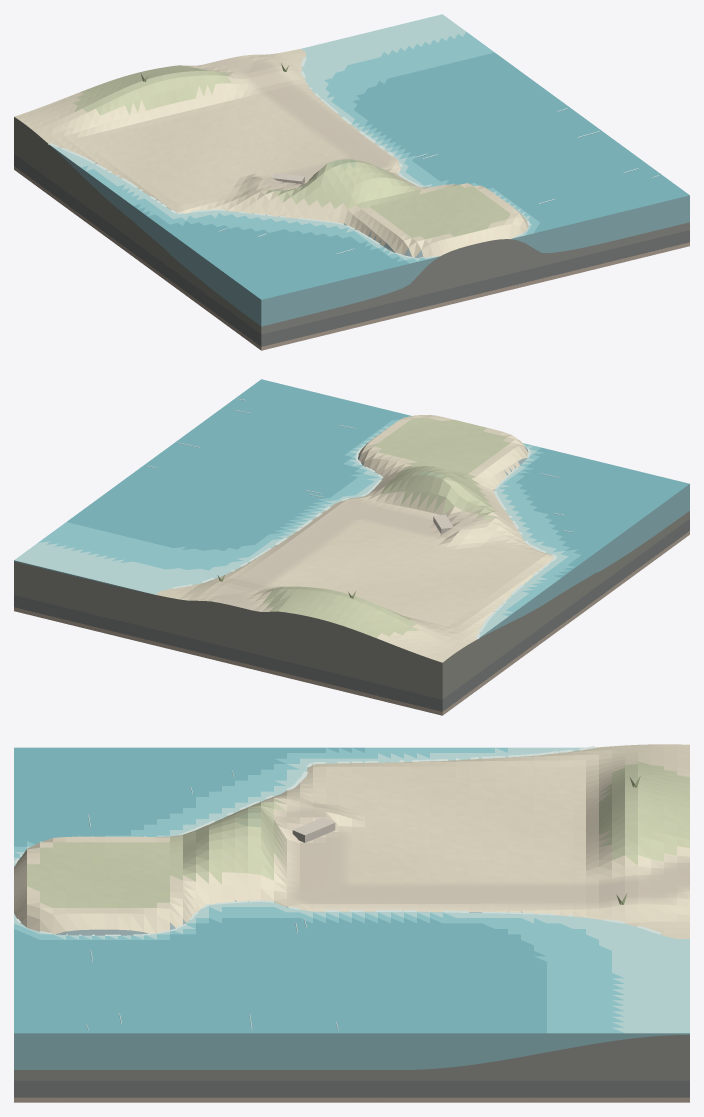
3 views of the same model, one above another, from view 1: azimuth 30°, elevation 25°; view 2: azimuth 150°, elevation 25°; view 3: azimuth 270°, elevation 25° (orthographic). The views are drawn at different scales.
Parts seen in each view (by area): view 1: proc_water, proc_ground, proc_skirt, proc_water_side, proc_foam; view 2: proc_water, proc_ground, proc_skirt, proc_water_side, proc_foam; view 3: proc_water, proc_ground, proc_skirt, proc_water_side, proc_foam, proc_steps.
Boxes of the visible parts, x1,y1,x2,y2 form: proc_water: (50,14,689,299); proc_ground: (14,49,528,257); proc_skirt: (14,117,689,350); proc_water_side: (50,145,689,326); proc_foam: (48,57,529,257); proc_water: (14,379,689,637); proc_ground: (156,415,553,662); proc_skirt: (14,511,689,715); proc_water_side: (14,484,689,637); proc_foam: (172,435,557,638); proc_water: (14,747,689,1033); proc_ground: (14,744,689,938); proc_skirt: (14,1035,689,1102); proc_water_side: (14,1033,689,1069); proc_foam: (14,746,661,935); proc_steps: (292,818,335,842).
Bounding box in the file's own units: 8.03 × 1.5 × 8.
